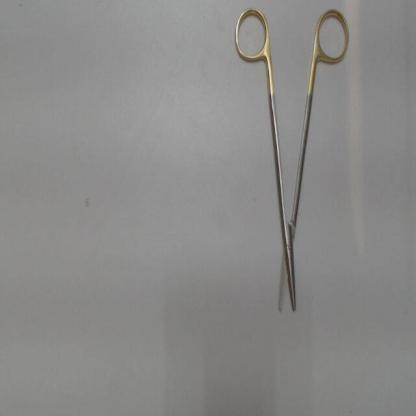7 Metzenbaum Scissors: (232, 3, 356, 320)
